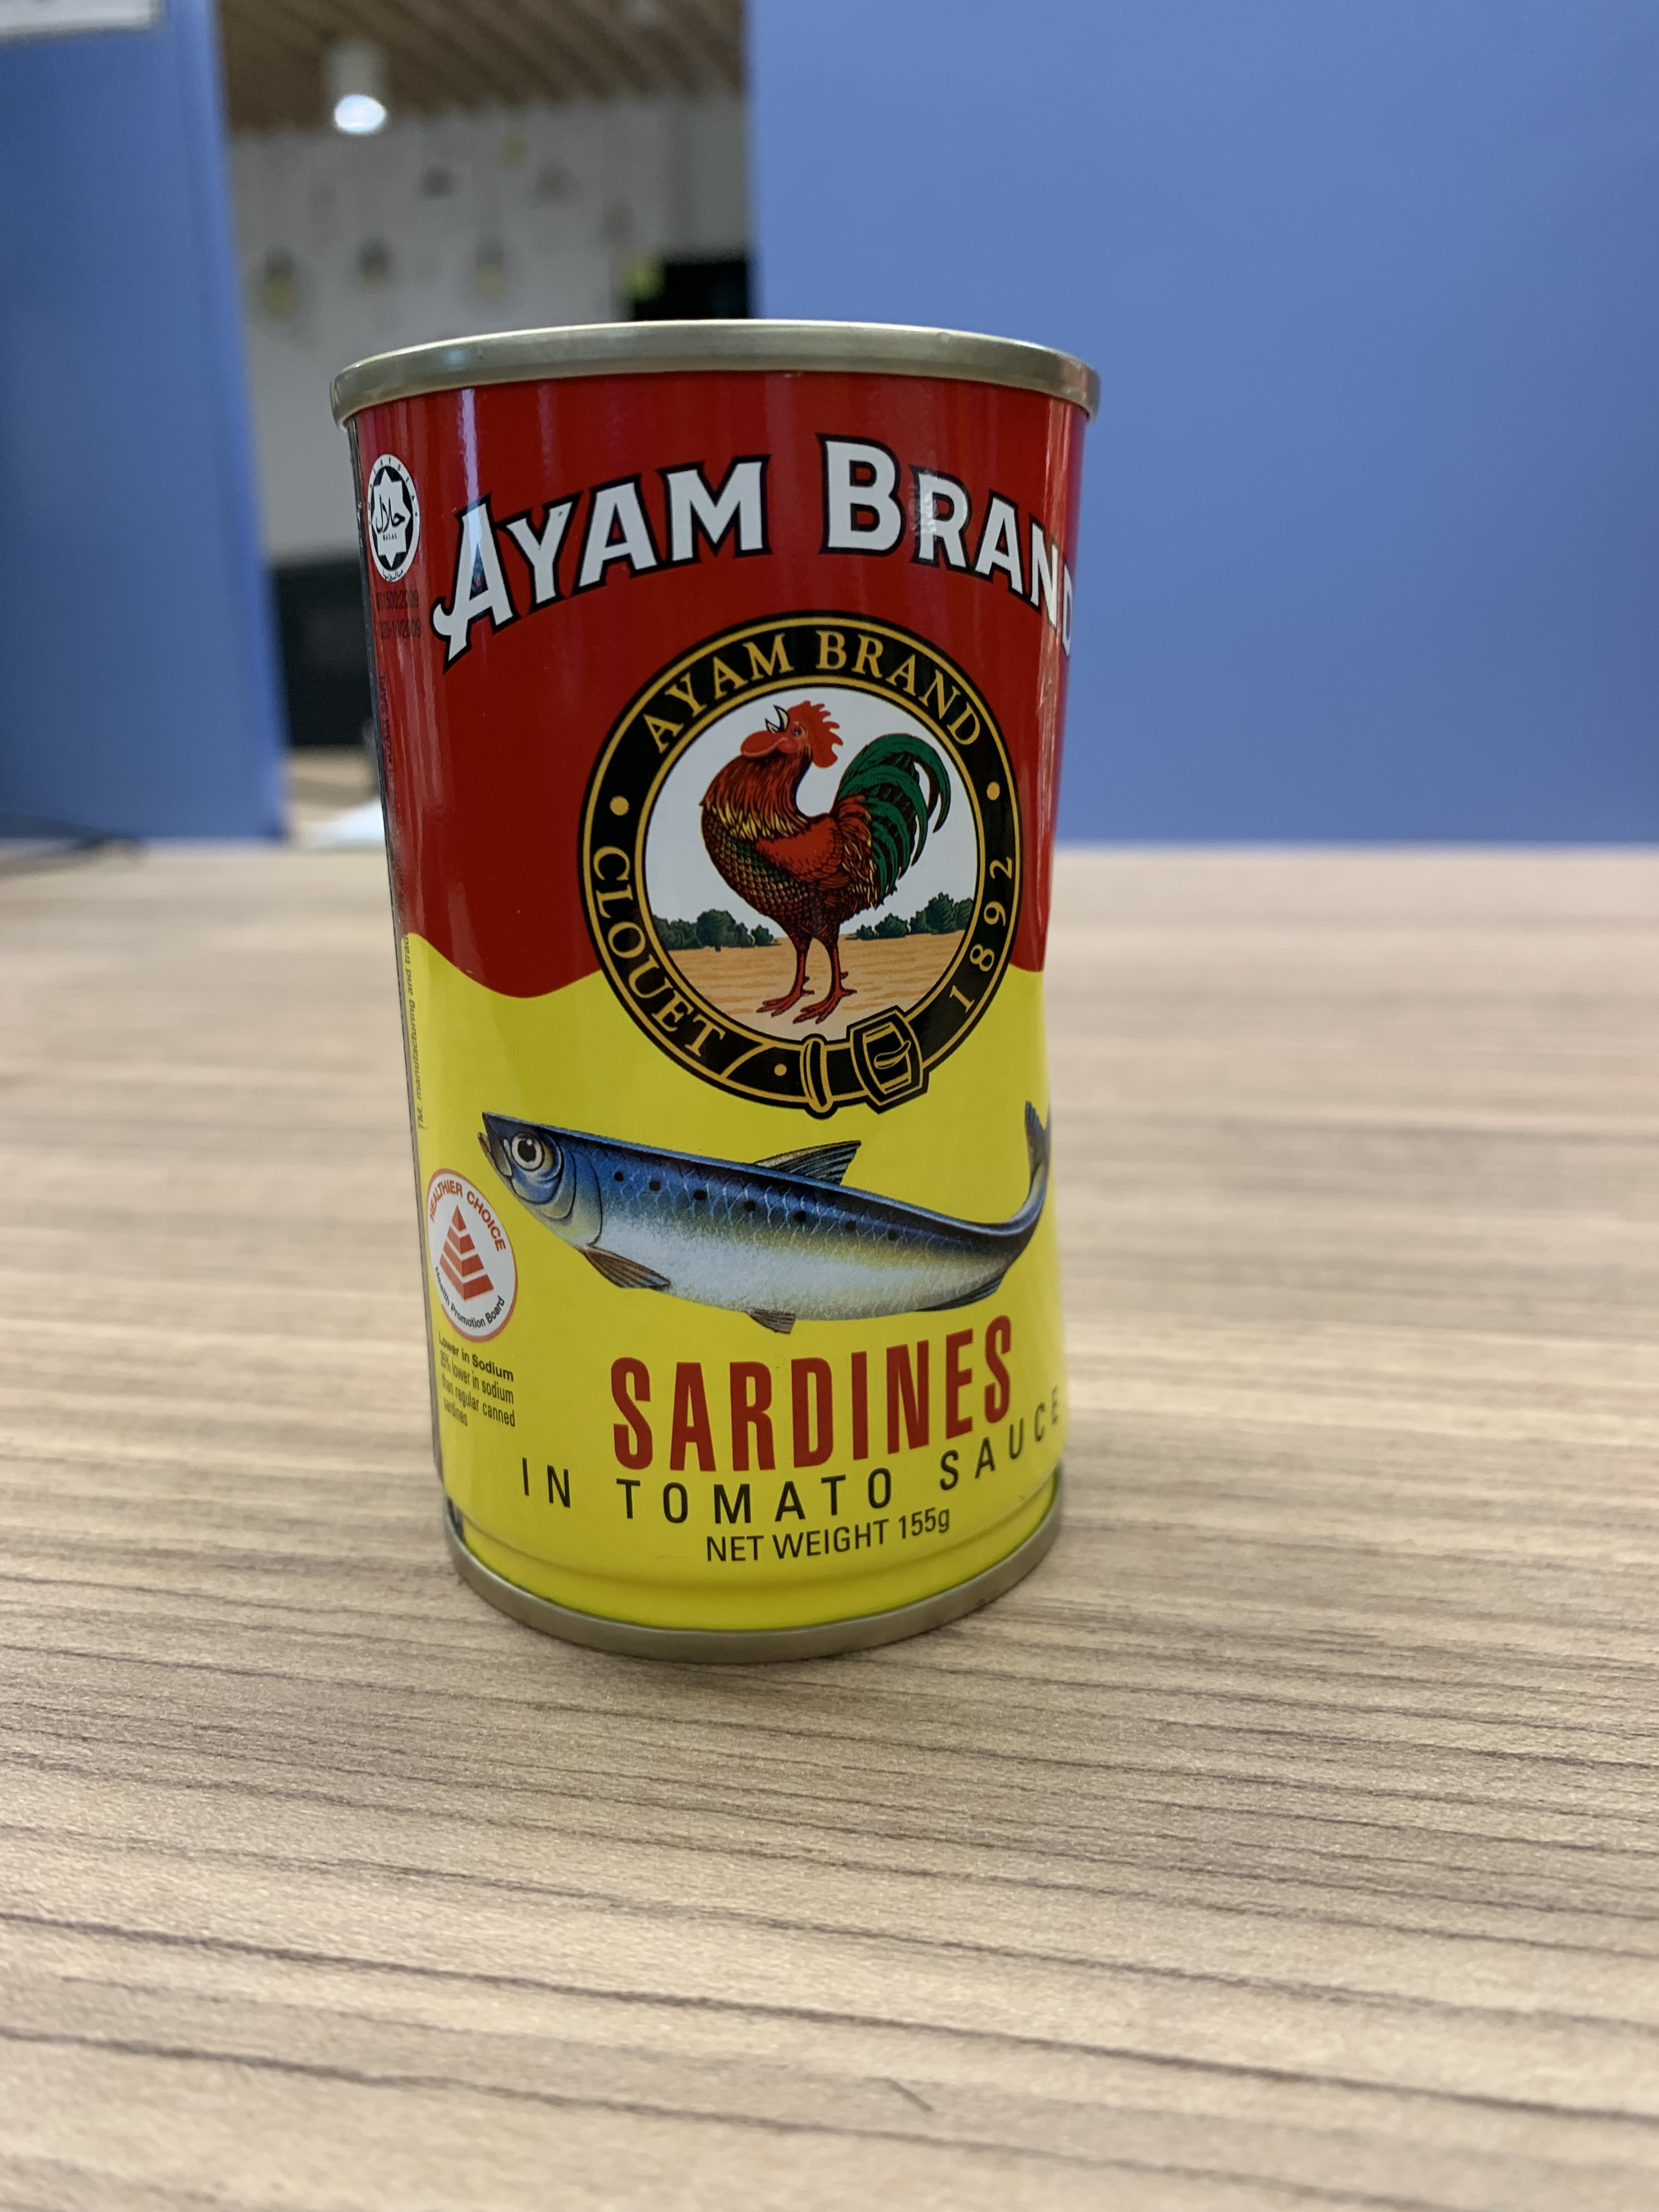sardines_100g-199g: (371, 416, 1084, 1588)
